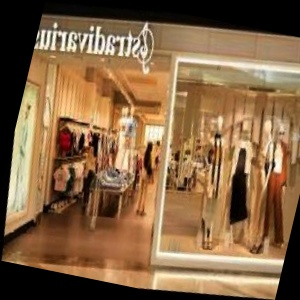stradivarius: (99, 61, 222, 94)
